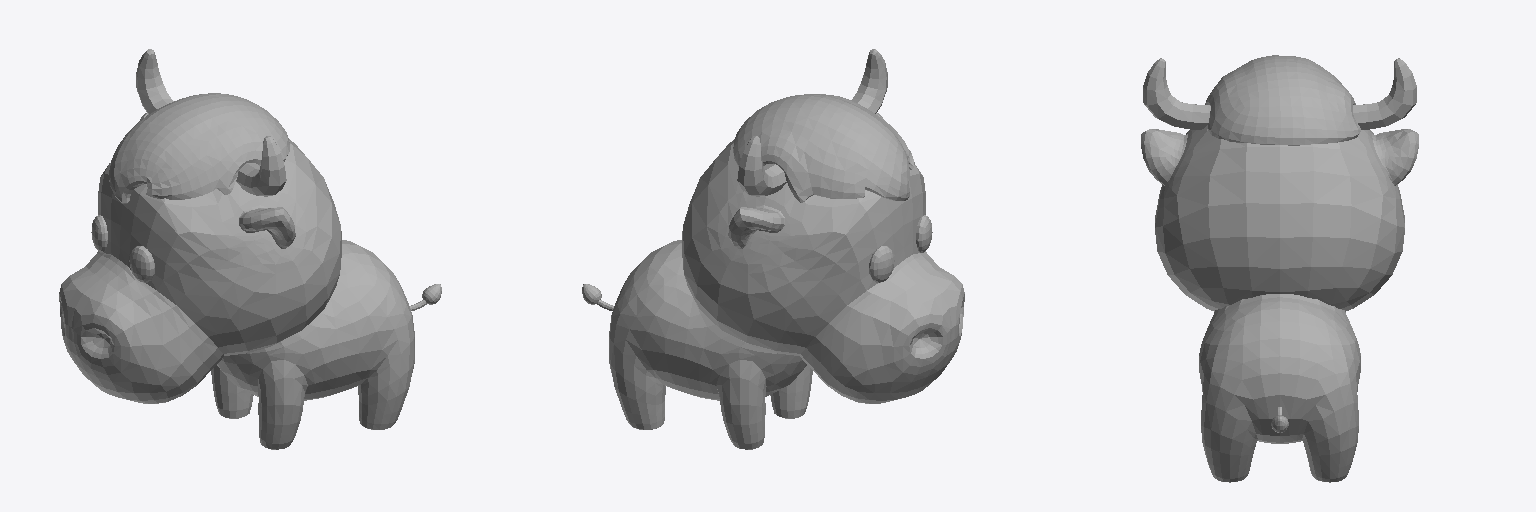
File: bezerrinho.obj
The picture shows the model from 3 angles: view 1: azimuth 30°, elevation 25°; view 2: azimuth 150°, elevation 25°; view 3: azimuth 270°, elevation 25°; orthographic projection.
Visible parts, largest first — view 1: Object_TexMap_0; view 2: Object_TexMap_0; view 3: Object_TexMap_0.
Part boxes in pixels (left/top/right/bottom): Object_TexMap_0: left=59, top=49, right=441, bottom=449; Object_TexMap_0: left=582, top=49, right=964, bottom=449; Object_TexMap_0: left=1141, top=55, right=1418, bottom=482.
Size of the model in its own units: 2.5 by 2.25 by 1.63.